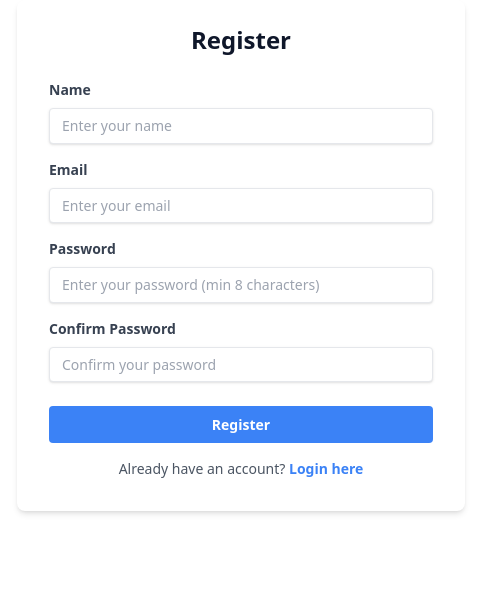
Test case: RegisterForm › should show validation error for name less than 2 characters
Step 1. Type "A" into the field labelled "Name" → (241, 126), box [49, 108, 433, 144]
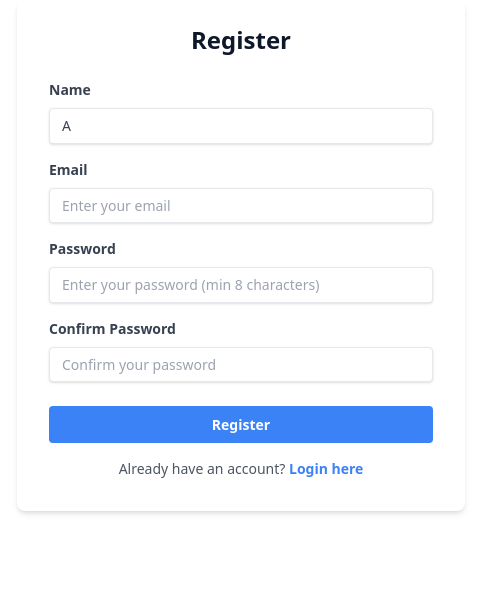
Step 2. Click the button "Register" → (241, 424), box [49, 406, 433, 443]
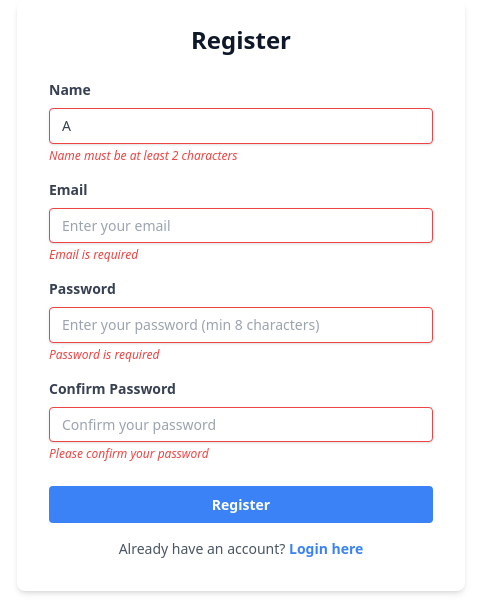
Expected: the text "Name must be at least 2 characters" is shown, [49, 146, 238, 164]
